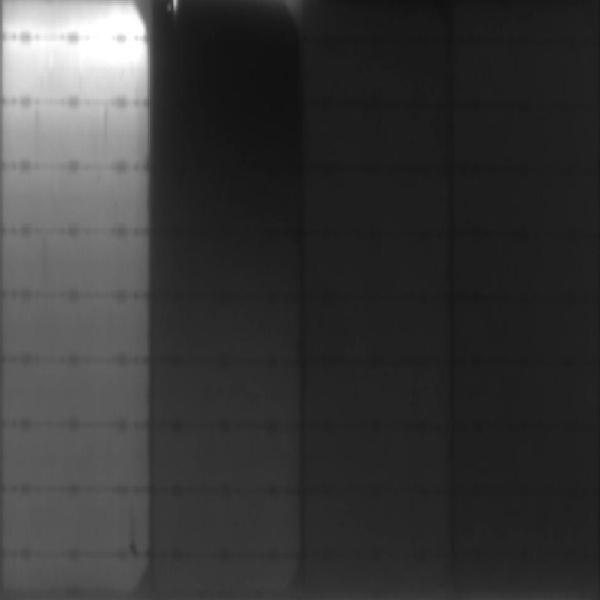hot_spot: (74, 41, 146, 60), (83, 16, 140, 35)
no_electricity: (304, 1, 457, 593), (456, 3, 600, 600), (149, 3, 299, 295)
